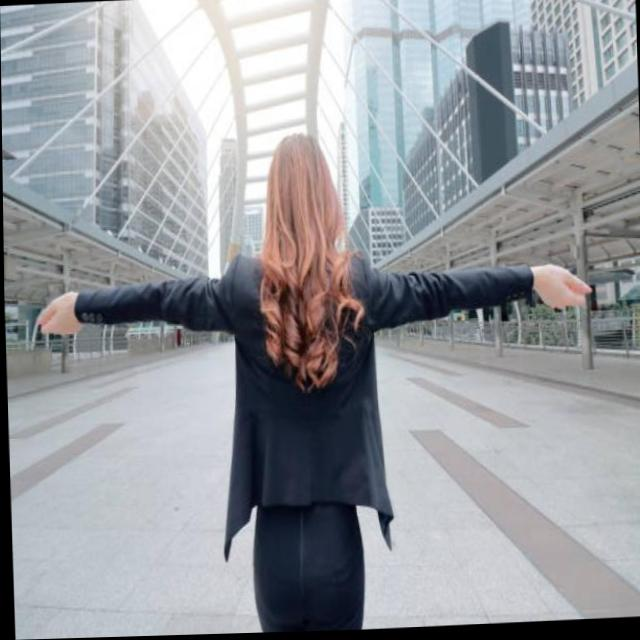no helmet: (258, 131, 347, 278)
